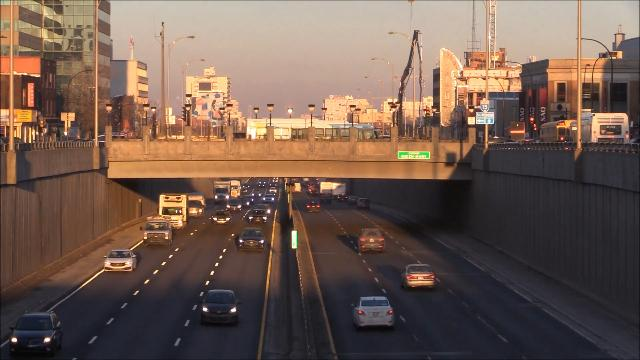bus: (569, 115, 630, 153), (538, 117, 577, 151)
car: (5, 303, 73, 359), (351, 295, 396, 332), (200, 289, 242, 327), (102, 247, 139, 276), (399, 263, 438, 290), (356, 227, 387, 257), (237, 229, 267, 255), (212, 208, 233, 226), (247, 208, 268, 225), (225, 197, 243, 212), (356, 198, 370, 210), (306, 201, 321, 212), (262, 194, 276, 204), (346, 196, 360, 205), (320, 194, 332, 204), (336, 193, 349, 202), (243, 195, 254, 205), (307, 188, 318, 196), (270, 178, 279, 187), (240, 199, 249, 207), (252, 190, 261, 198), (268, 187, 278, 194), (287, 180, 297, 187), (307, 182, 316, 189), (239, 188, 248, 194), (291, 178, 298, 182), (301, 178, 308, 182)
pickup-truck: (141, 217, 173, 247), (187, 192, 207, 217)
truck: (159, 192, 189, 230), (213, 181, 232, 203), (228, 180, 241, 199)
van: (292, 182, 301, 192)
